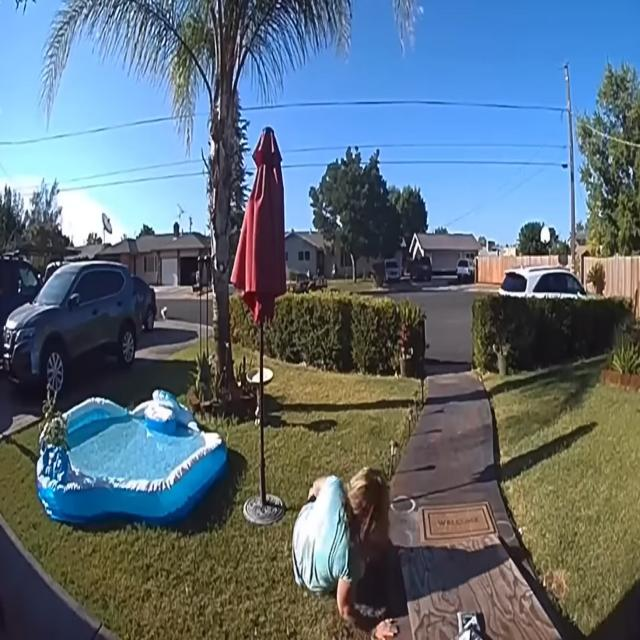fallen: (292, 467, 397, 639)
